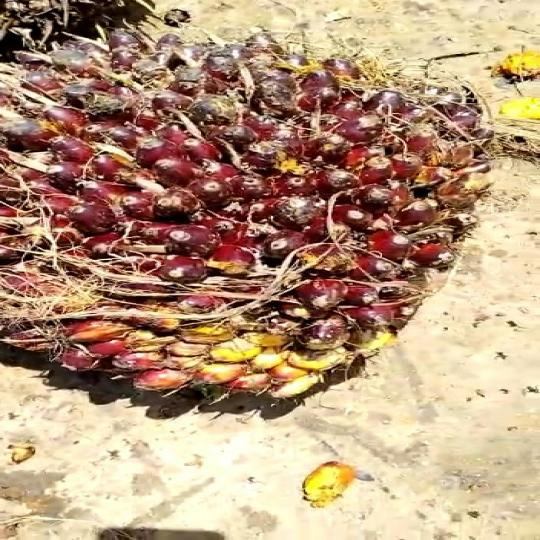kurang masak: (0, 30, 500, 415)
